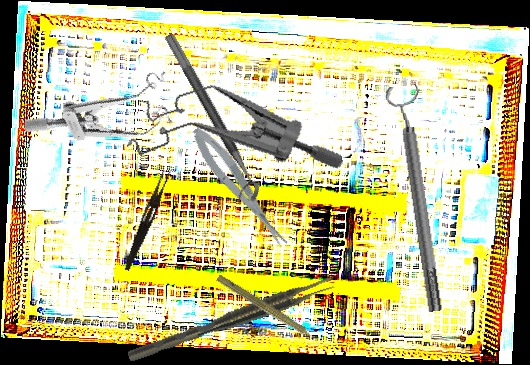Dressing Forceps: (123, 168, 171, 273)
Fixation Ring: (150, 32, 265, 209), (383, 83, 453, 314)
Handpiece: (213, 272, 325, 350)
Micro Scissor: (185, 121, 293, 255)
Speculum: (116, 51, 345, 224), (21, 57, 187, 182)
Tissue Forceps: (124, 274, 338, 363)
